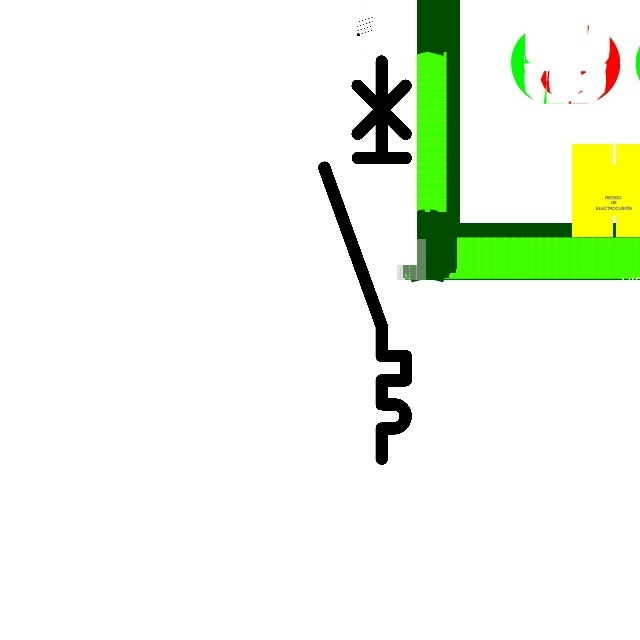interruptor_termomagnetico: (314, 51, 416, 469)
